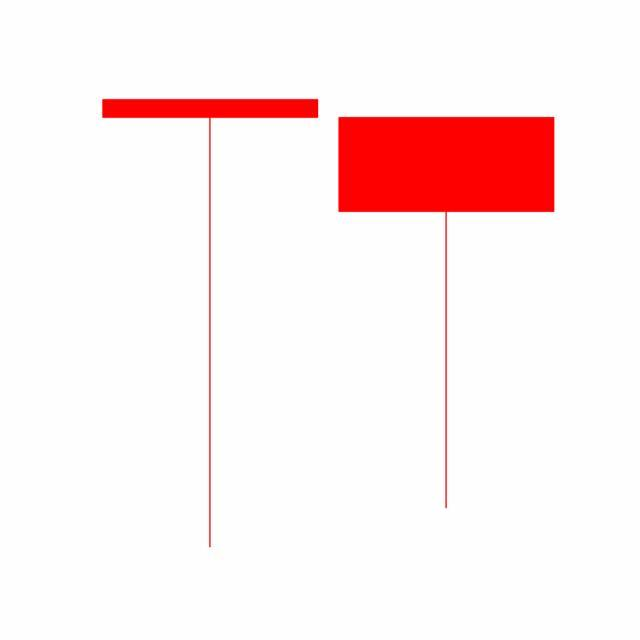Hanging Man: (328, 113, 566, 513)
